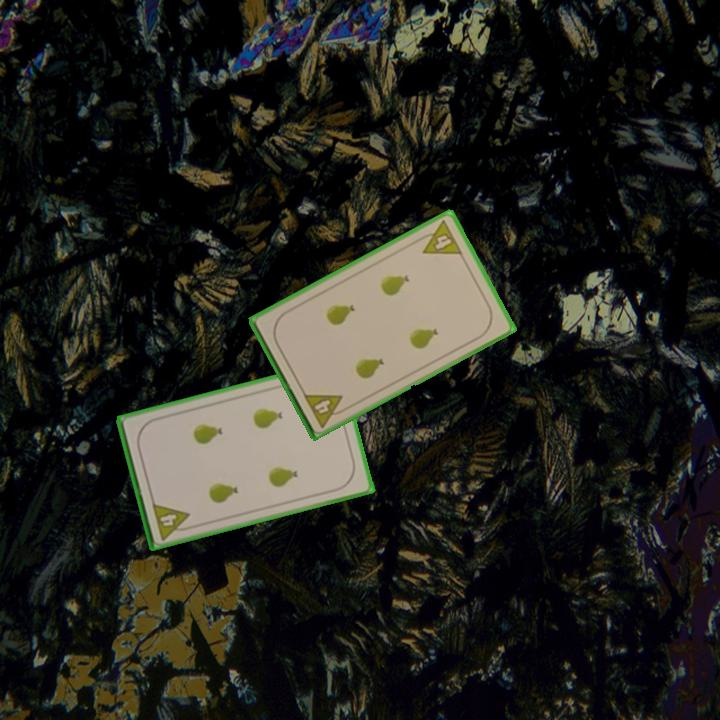4p: (300, 389, 351, 431), (413, 217, 465, 258), (149, 499, 195, 543)
